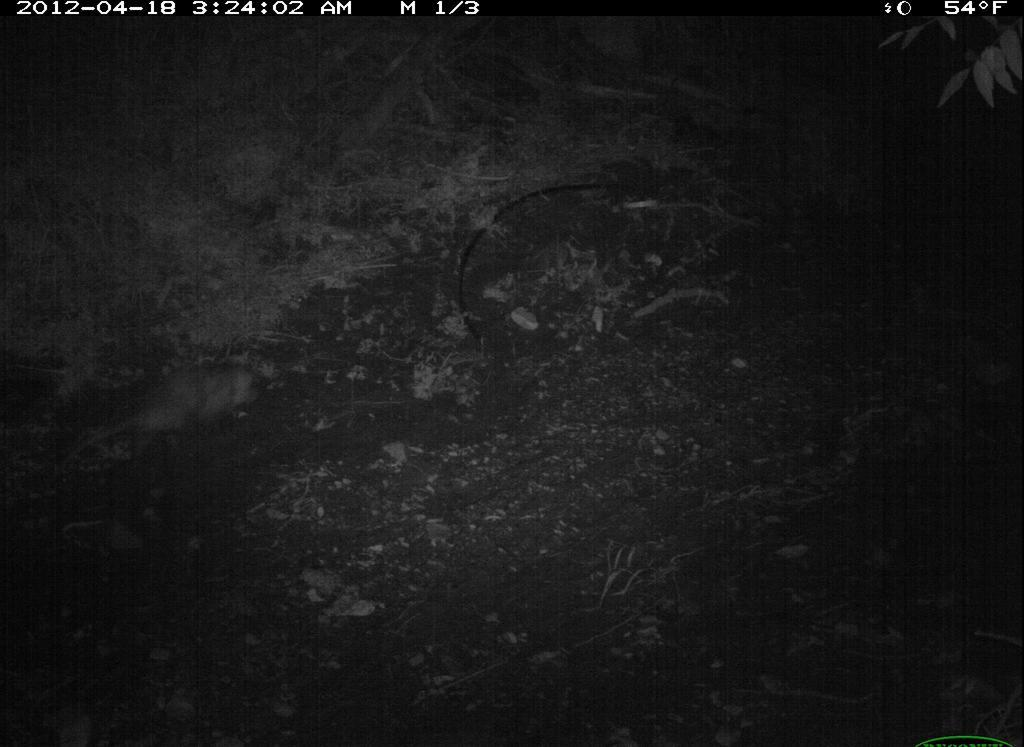opossum: (72, 349, 277, 472)
